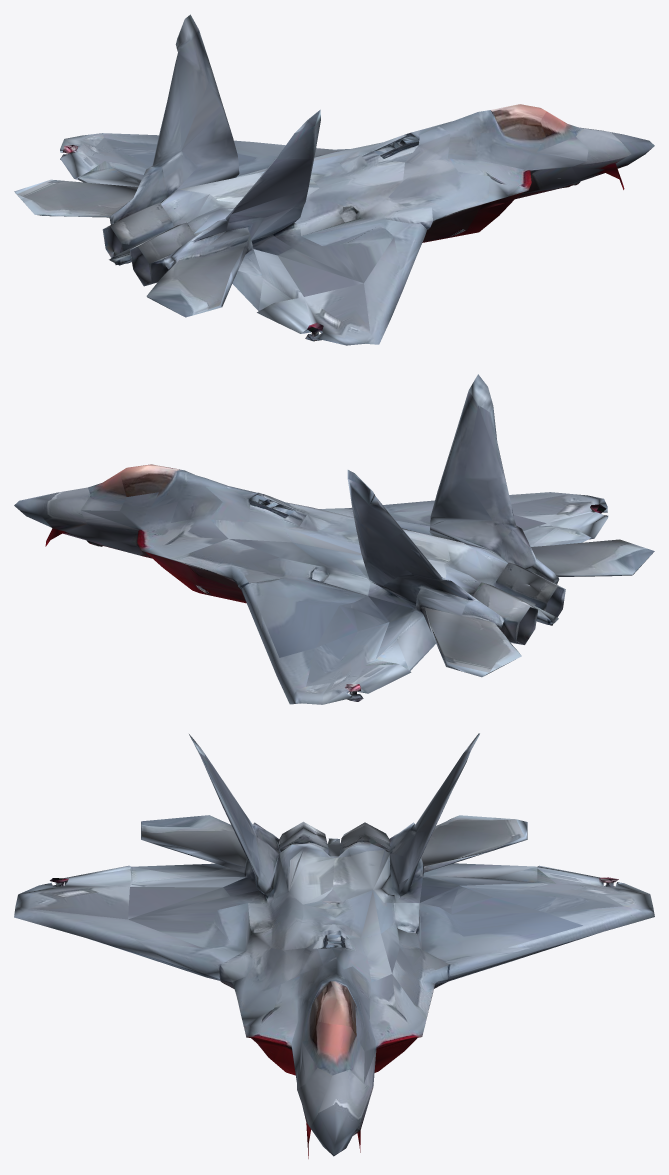
3 views of the same model, one above another, from view 1: azimuth 30°, elevation 25°; view 2: azimuth 150°, elevation 25°; view 3: azimuth 270°, elevation 25° (orthographic). The views are drawn at different scales.
Visible parts, largest first — view 1: hull, wingR, finL, wingL, finR, stabR, stabL, pilot, engR, engL; view 2: hull, wingL, finR, wingR, finL, stabL, stabR, pilot, engR, engL; view 3: hull, wingR, wingL, stabL, stabR, pilot, finL, finR.
Part boxes in pixels (x1,y1,x2,y2): hull: (82, 110, 654, 277); wingR: (220, 217, 432, 345); finL: (134, 14, 238, 196); wingL: (60, 133, 316, 186); finR: (193, 109, 320, 240); stabR: (146, 248, 243, 317); stabL: (14, 179, 138, 217); pilot: (491, 104, 567, 137); engR: (109, 228, 186, 286); engL: (102, 199, 159, 264); hull: (14, 469, 593, 644); wingL: (232, 575, 447, 704); finR: (431, 374, 531, 550); wingR: (350, 492, 608, 546); finL: (347, 470, 467, 598); stabL: (425, 607, 521, 677); stabR: (531, 539, 654, 576); pilot: (102, 464, 178, 496); engR: (496, 562, 565, 625); engL: (484, 583, 554, 644); hull: (217, 822, 465, 1158); wingR: (14, 836, 245, 982); wingL: (420, 836, 654, 984); stabL: (421, 815, 527, 866); stabR: (141, 815, 246, 866); pilot: (312, 981, 356, 1057); finL: (390, 733, 479, 891); finR: (189, 734, 276, 882).
Size of the model in its own units: 16.9 by 5.93 by 14.83.
Materials: 1 (1 with a texture image).
